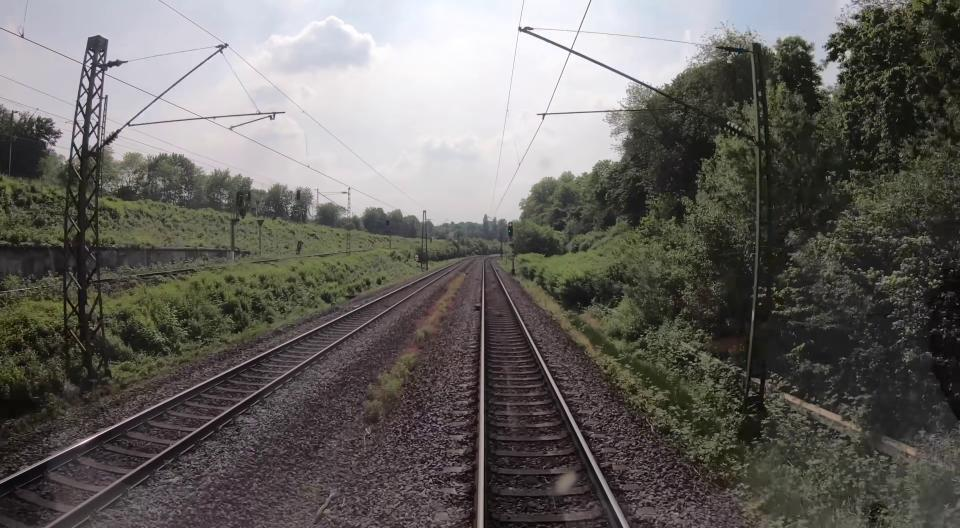Plant: (364, 273, 466, 423)
